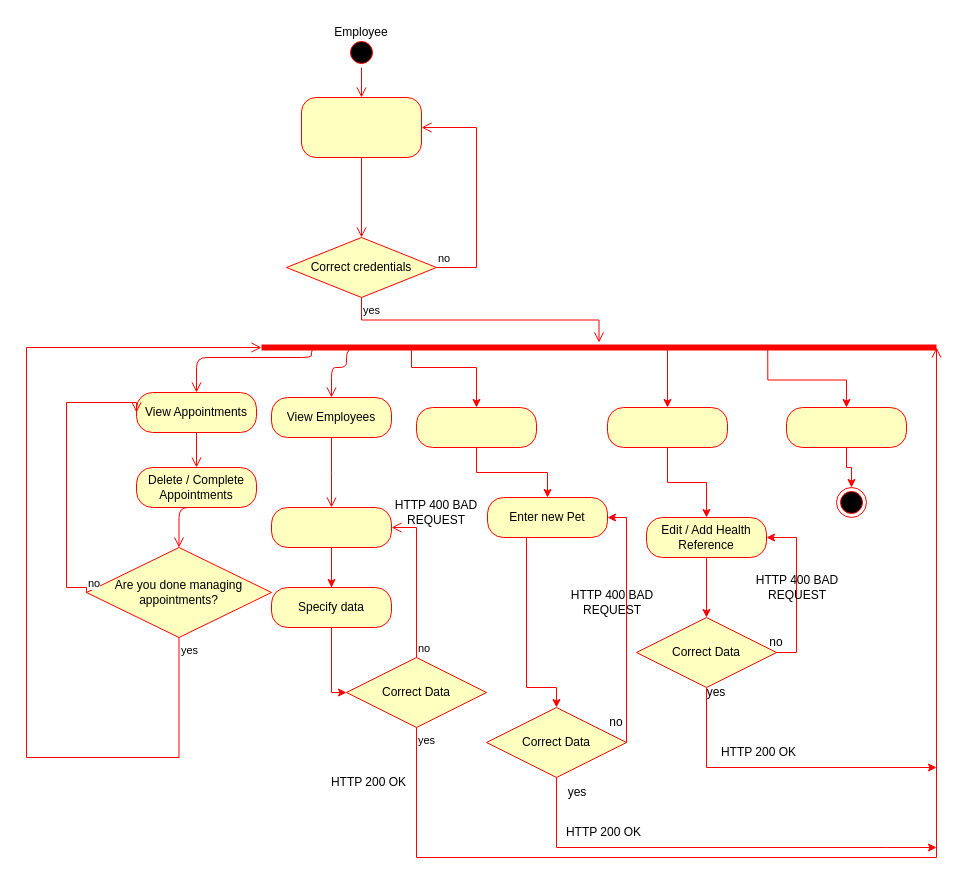
The diagram is 964 pixels wide and 885 high, and some of its shapes have lost their labels. The shapes that lost their labels are listed below. From the top down, each one's centre as x and y in pixels, then its label:
(361,127): Login into account
(476,427): View Pets for adoption
(667,427): View Health Reference
(846,427): Logout
(331,527): Create Employee Account
